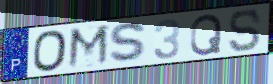3: (152, 17, 182, 60)
M: (66, 23, 111, 71)
O: (32, 28, 69, 73)
Q: (189, 12, 224, 57)
S: (107, 21, 150, 65), (228, 8, 263, 54)
